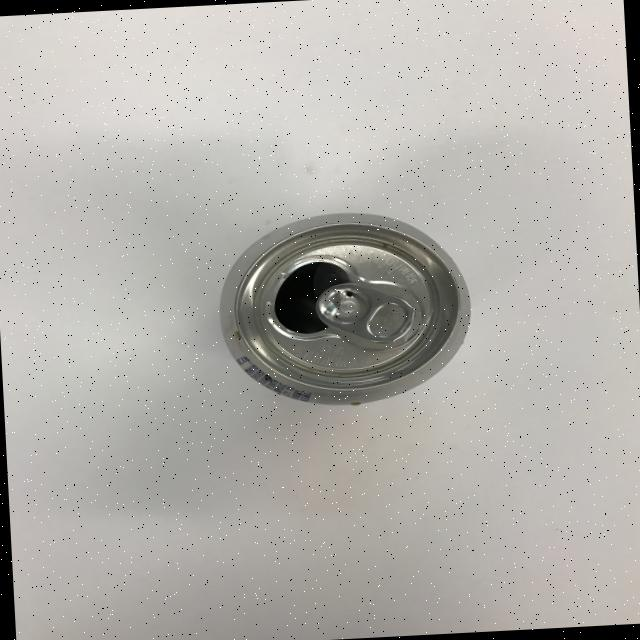metal: (214, 205, 476, 412)
